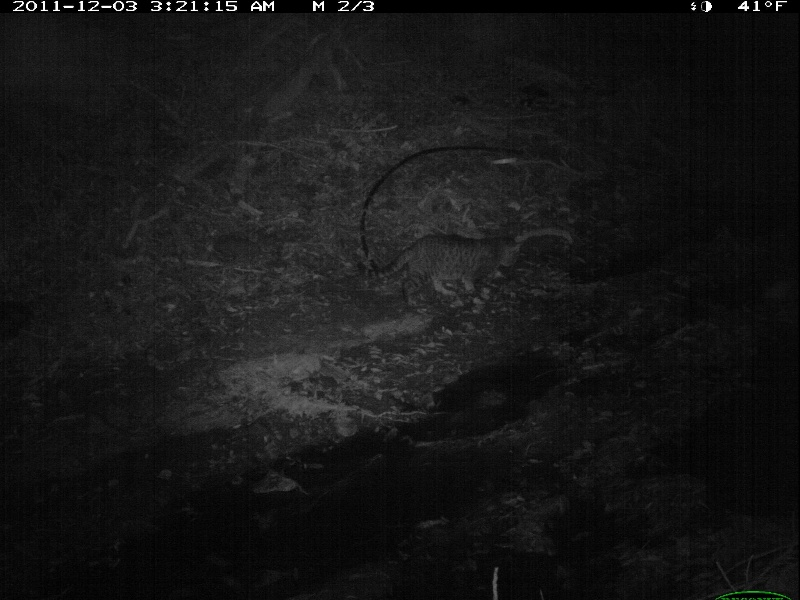cat: (366, 232, 523, 308)
